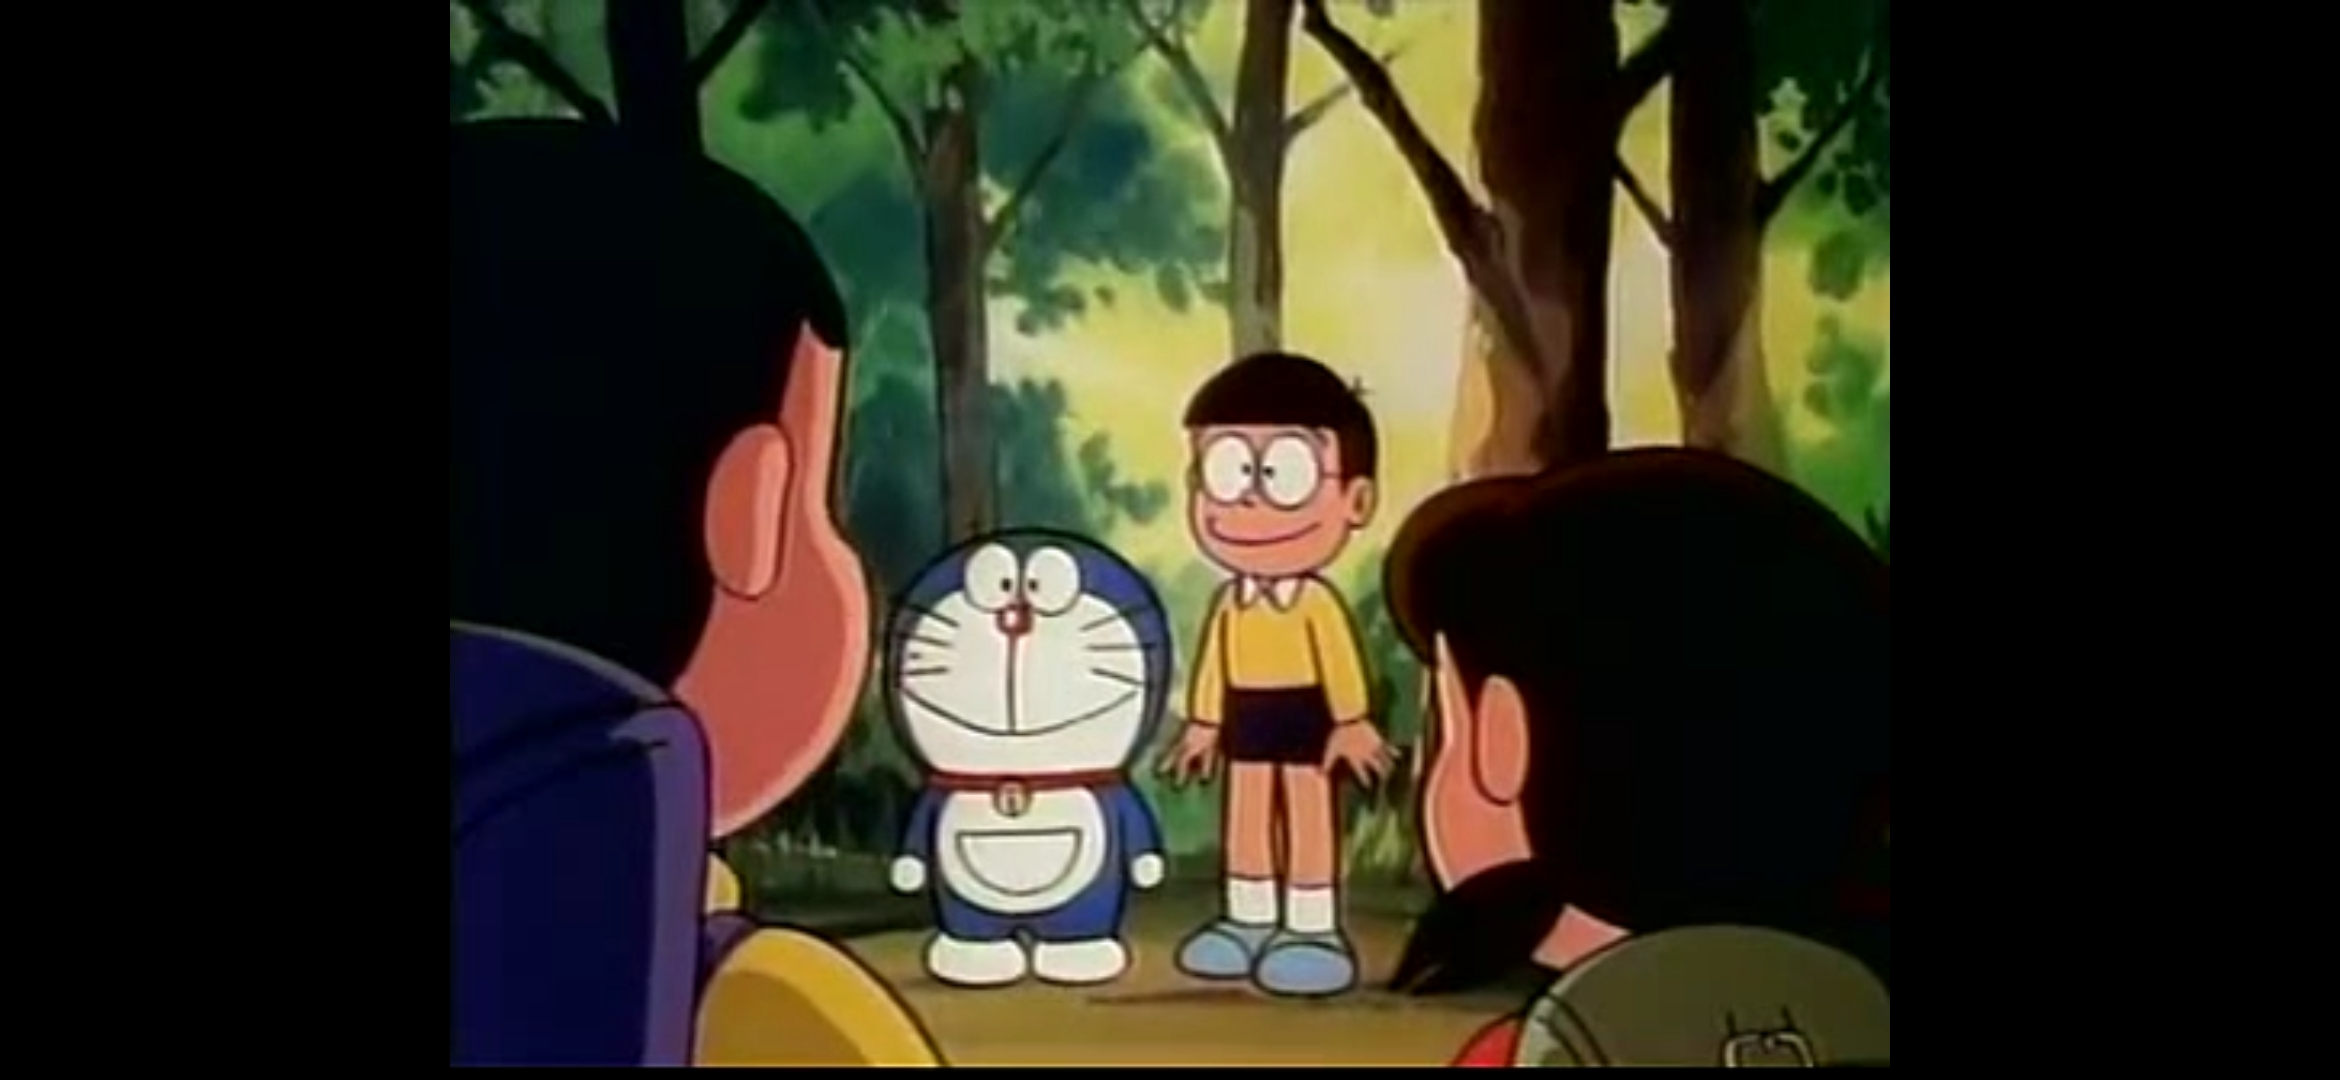Doraemon: (883, 530, 1169, 811)
Nobi: (1180, 352, 1377, 577)
Shizuka: (1385, 445, 1889, 973)
Takeshi: (442, 125, 866, 837)
